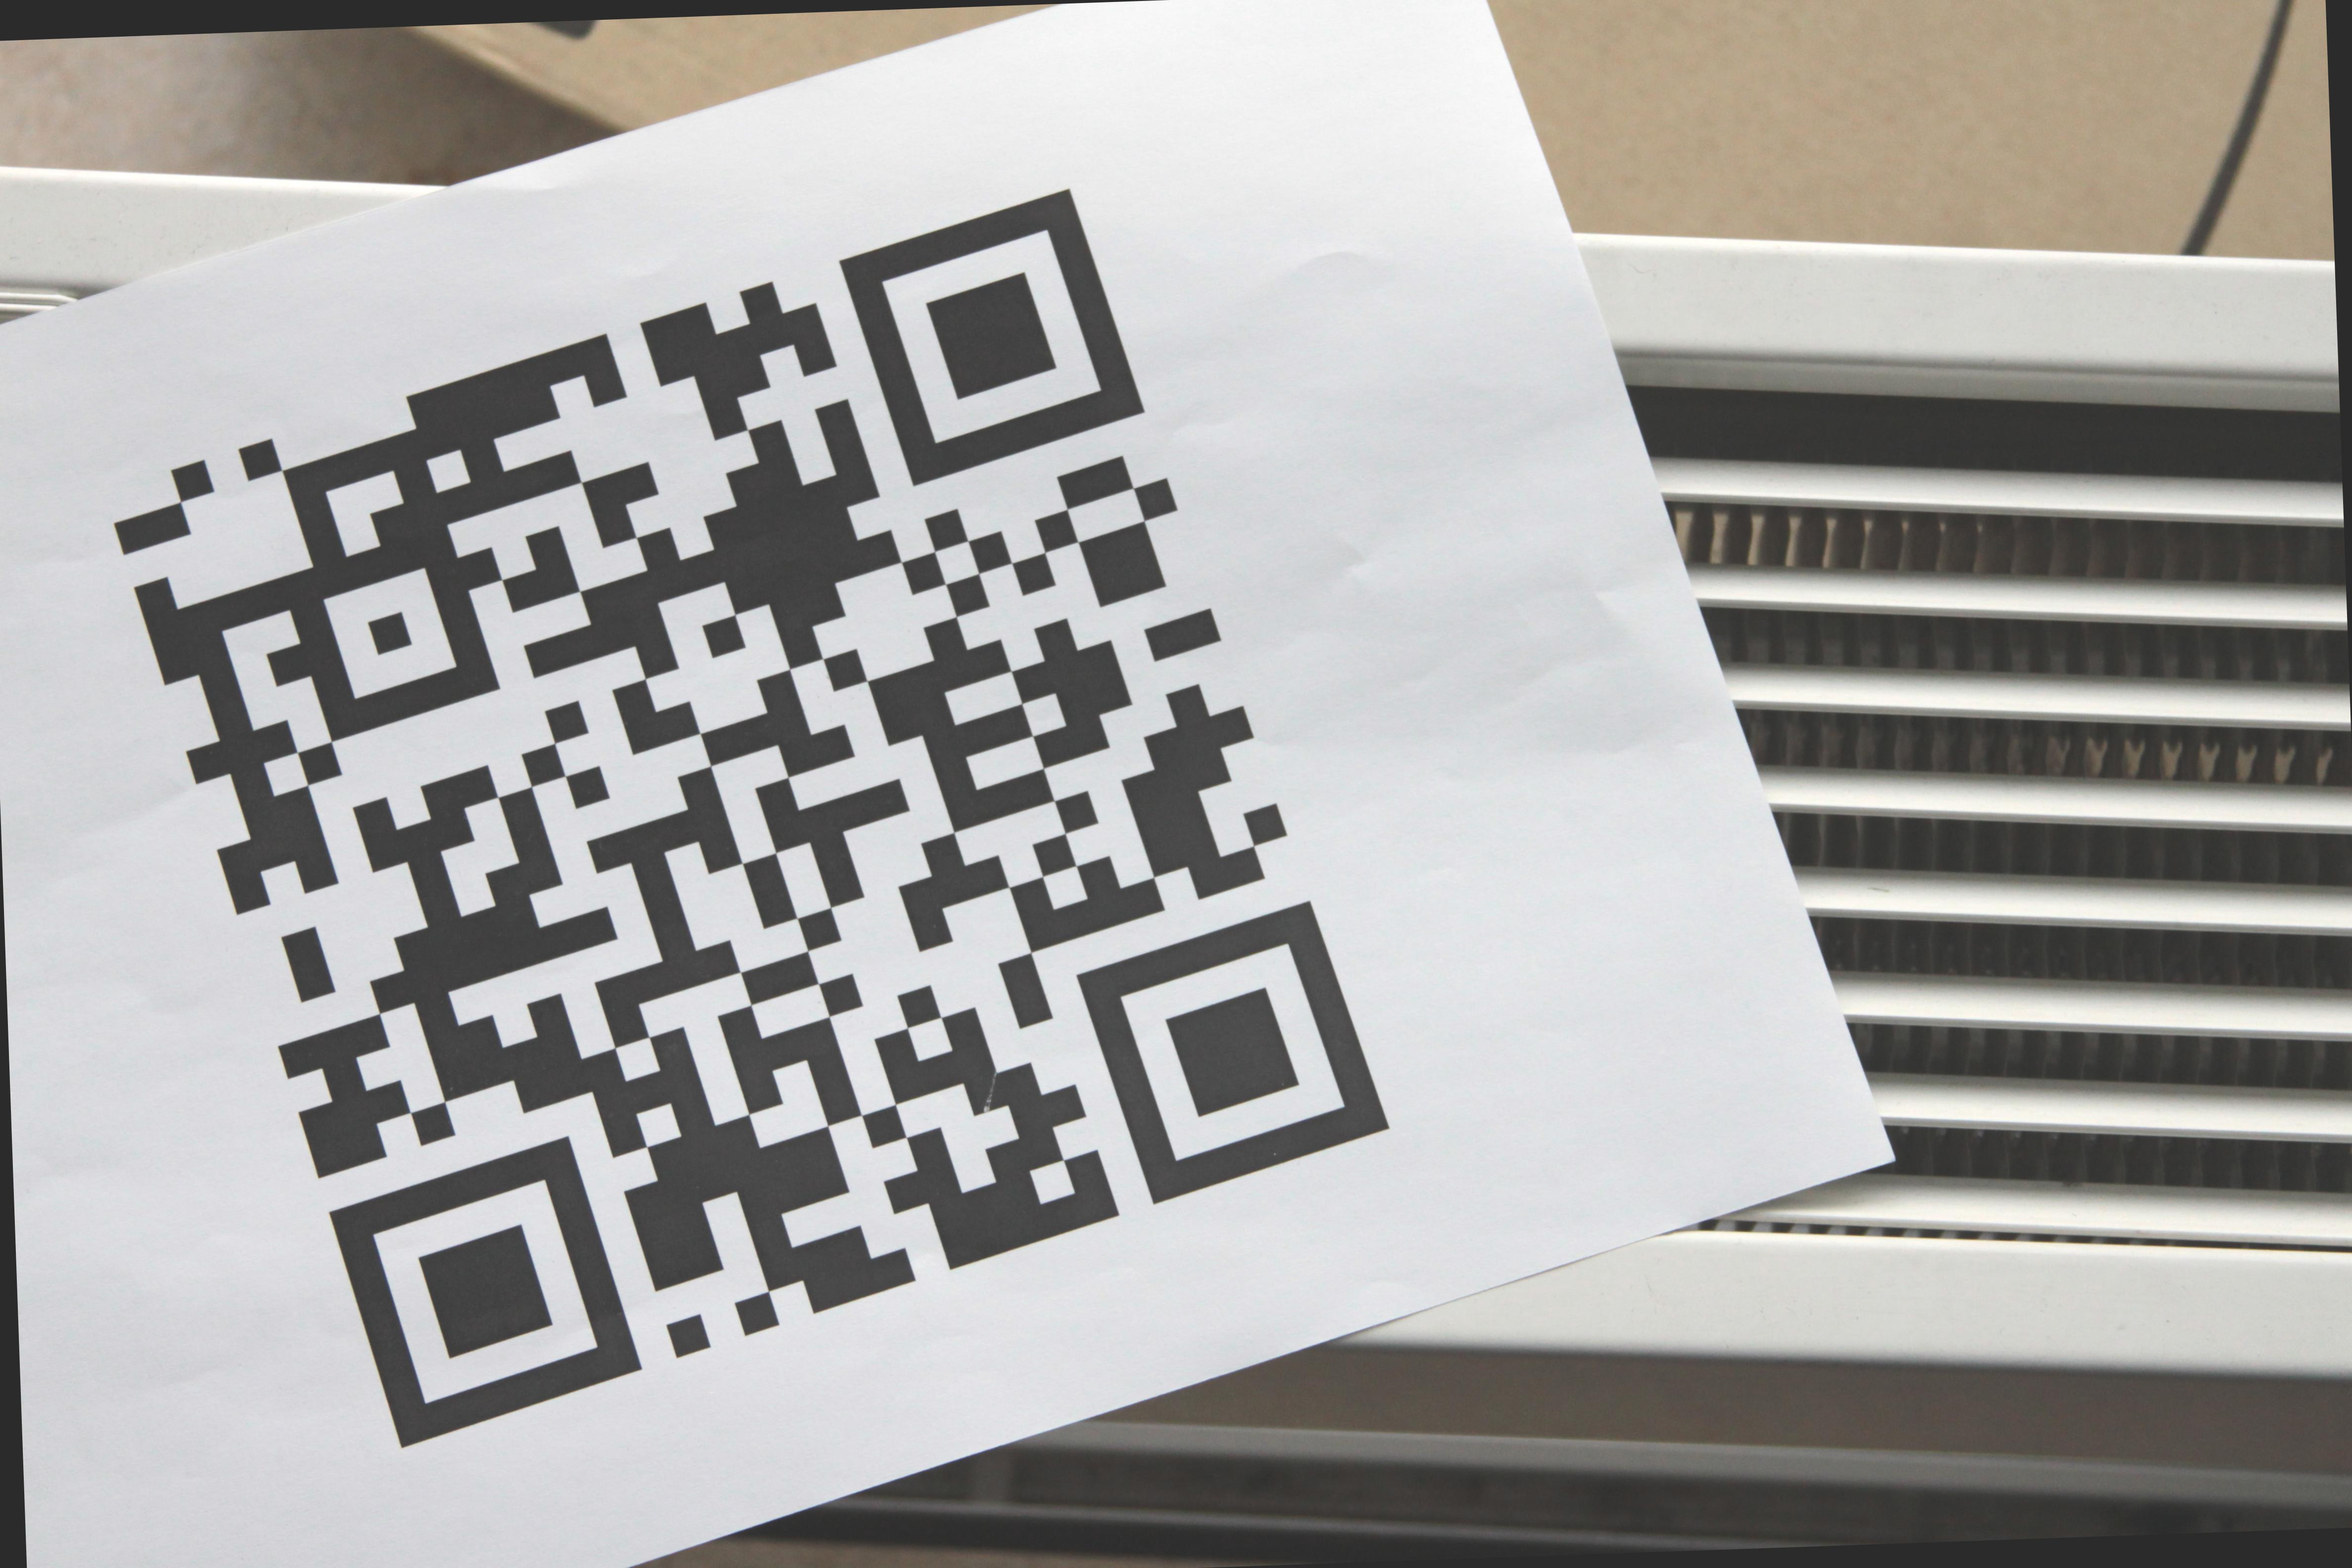QR: (94, 185, 1440, 1445)
